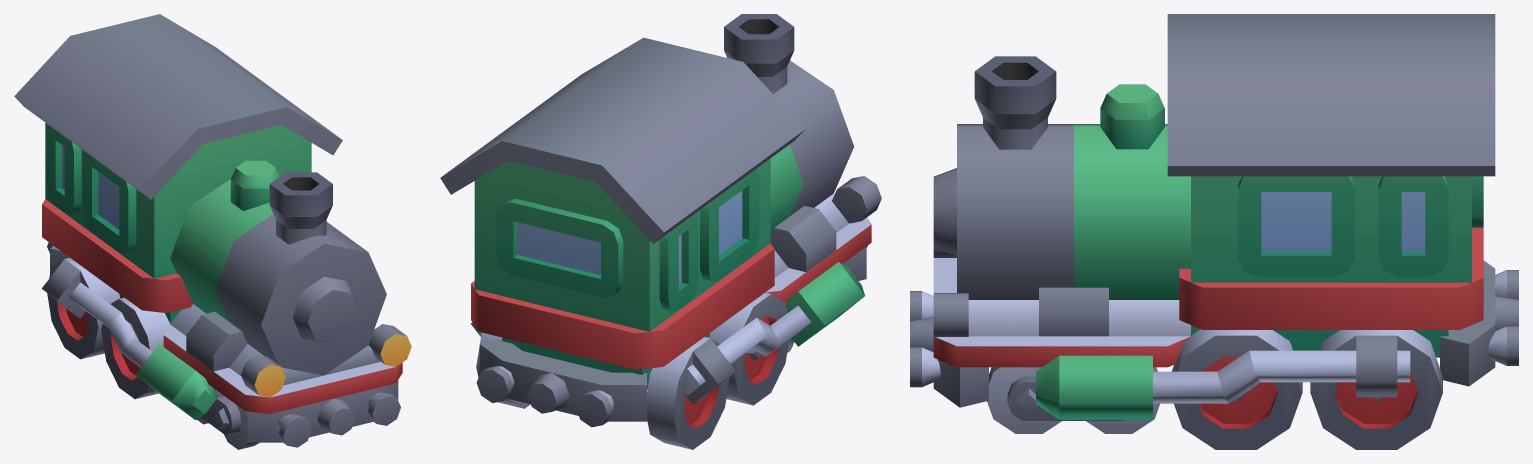
The model's file is k-train-train-locomotive-a.glb.
3 renders of one model, left to right at view 1: azimuth 30°, elevation 25°; view 2: azimuth 150°, elevation 25°; view 3: azimuth 270°, elevation 25°, orthographic. The views are drawn at different scales.
Visible parts, largest first — view 1: train-locomotive-a, wheel (×2), wheels-front; view 2: train-locomotive-a, wheel (×2); view 3: train-locomotive-a, wheel (×2), wheels-front.
Boxes of the visible parts, bbox=[...] form: train-locomotive-a: bbox=[14, 14, 411, 447]; wheel (×2): bbox=[47, 257, 170, 399]; wheels-front: bbox=[197, 389, 259, 449]; train-locomotive-a: bbox=[440, 14, 881, 427]; wheel (×2): bbox=[647, 292, 789, 449]; train-locomotive-a: bbox=[910, 14, 1518, 419]; wheel (×2): bbox=[1171, 329, 1442, 449]; wheels-front: bbox=[987, 367, 1159, 433].
Bounding box in the file's own units: 1.43 × 1.66 × 2.6.
1 material, 1 textured.
